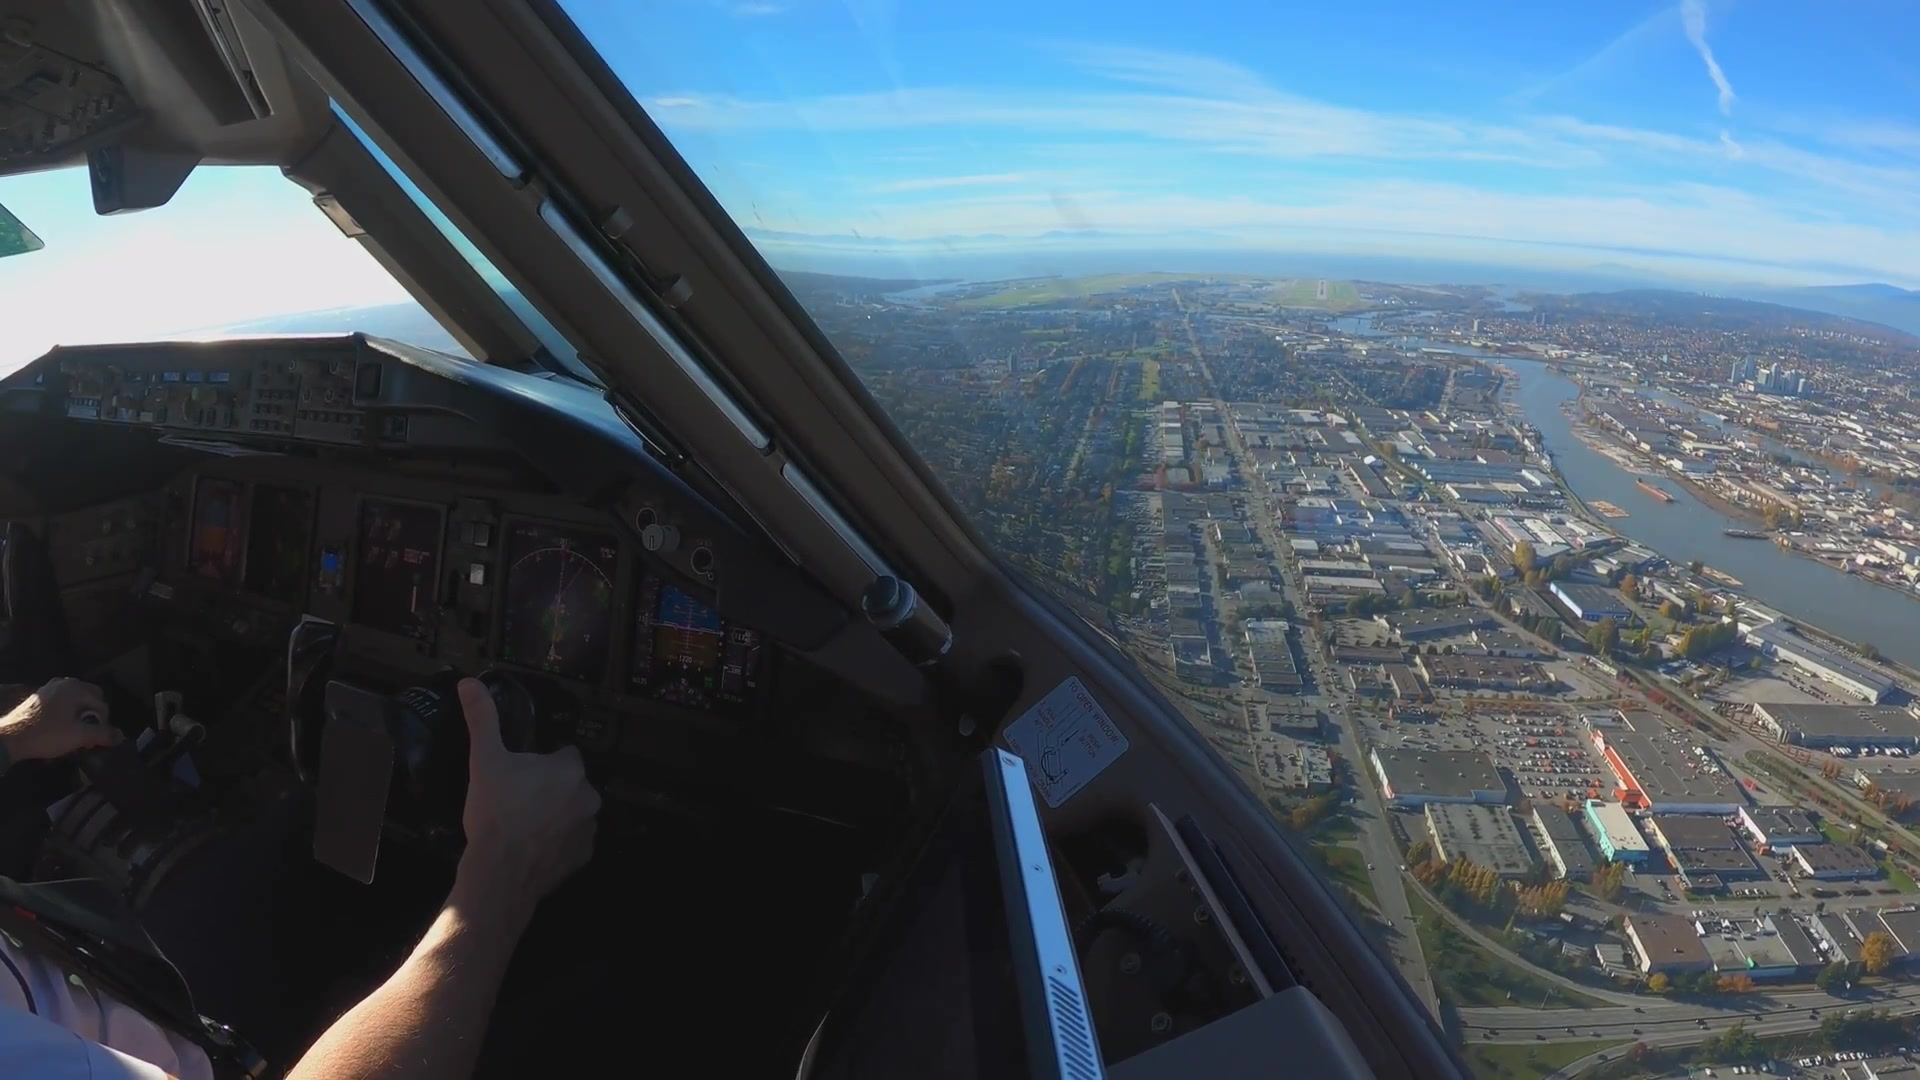runway: (1315, 278, 1329, 302)
